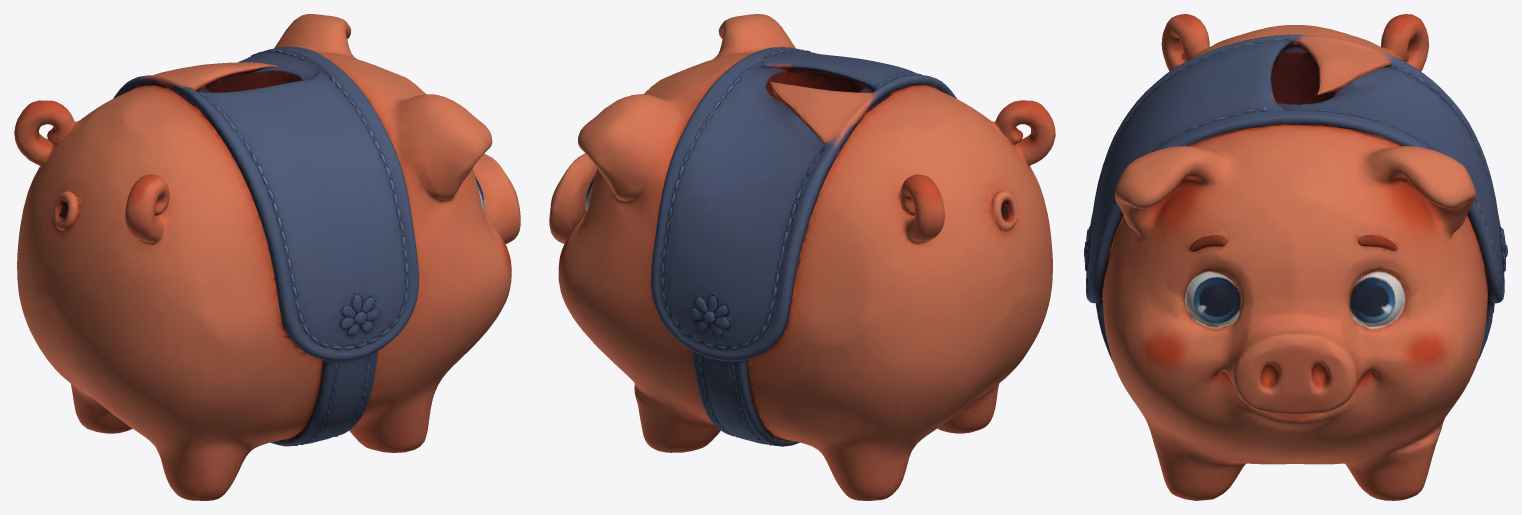
Rendered from porquinho.glb.
The picture shows the model from 3 angles, left to right: view 1: azimuth 30°, elevation 25°; view 2: azimuth 150°, elevation 25°; view 3: azimuth 270°, elevation 25°; orthographic projection. The views are drawn at different scales.
Visible parts, largest first — view 1: tripo_node_2b4fa1c1-7c5c-4dc1-a69d-6e193fb3a70b; view 2: tripo_node_2b4fa1c1-7c5c-4dc1-a69d-6e193fb3a70b; view 3: tripo_node_2b4fa1c1-7c5c-4dc1-a69d-6e193fb3a70b.
Part boxes in pixels (x1,y1,x2,y2): tripo_node_2b4fa1c1-7c5c-4dc1-a69d-6e193fb3a70b: (14,14,520,500); tripo_node_2b4fa1c1-7c5c-4dc1-a69d-6e193fb3a70b: (549,14,1055,500); tripo_node_2b4fa1c1-7c5c-4dc1-a69d-6e193fb3a70b: (1084,14,1507,500).
Size of the model in its own units: 1 by 0.7729 by 0.7854.
1 material, 1 textured.
